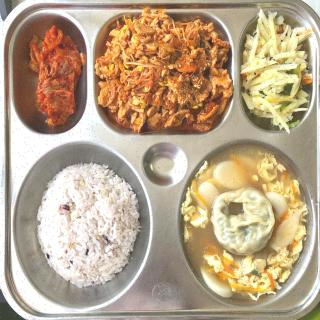Nasi: (38, 164, 142, 291)
